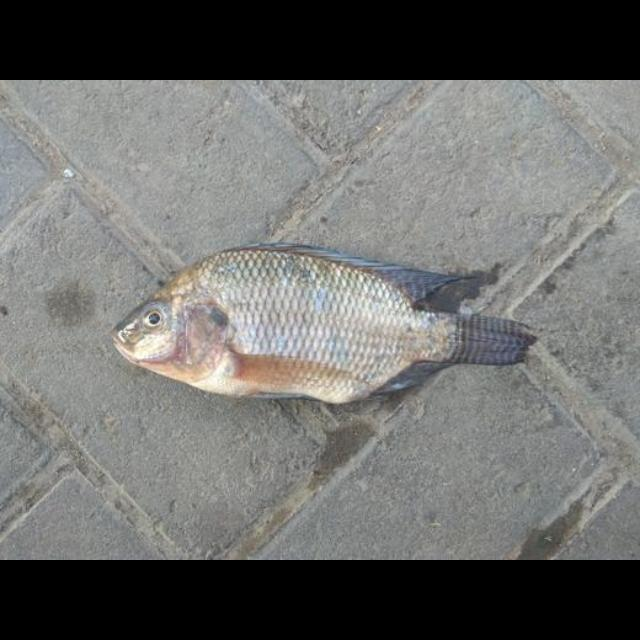Tilapia: (112, 241, 536, 405)
